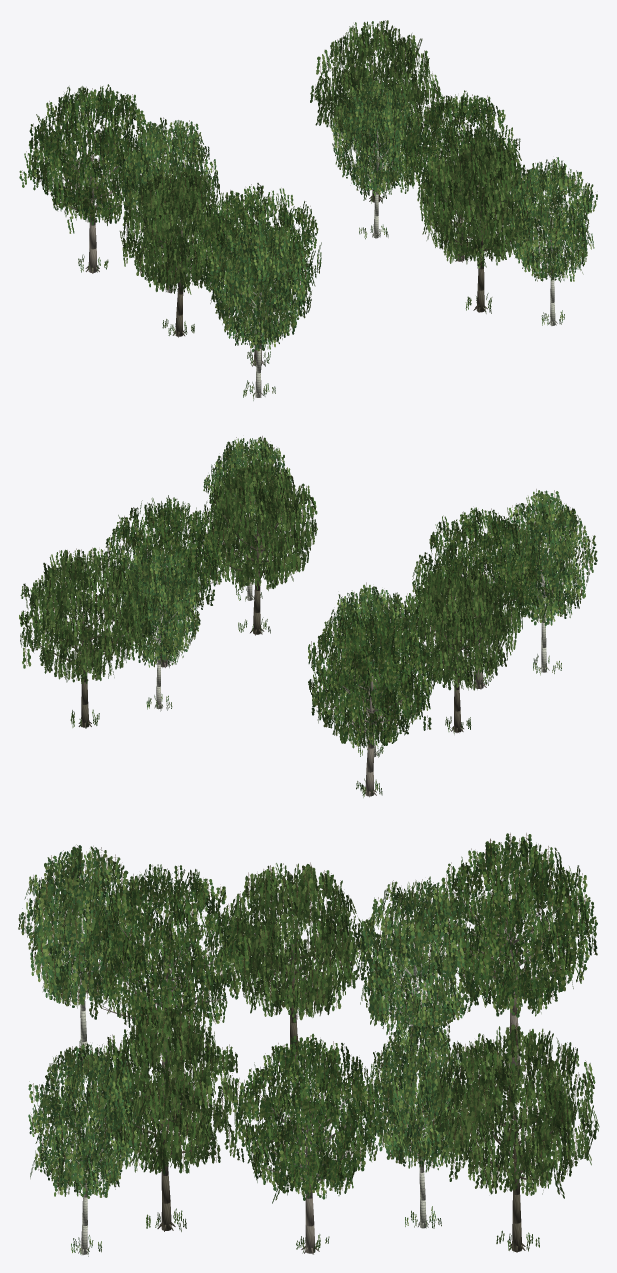
3 renders of one model, top to bottom at view 1: azimuth 30°, elevation 25°; view 2: azimuth 150°, elevation 25°; view 3: azimuth 270°, elevation 25°, orthographic. The views are drawn at different scales.
Visible parts, largest first — view 1: VIS_Medium_00_VIS_MaskedLeaves, VIS_Medium_08_VIS_MaskedLeaves, VIS_Medium_04_VIS_MaskedLeaves, VIS_Medium_02_VIS_MaskedLeaves, VIS_Medium_05_VIS_MaskedLeaves, VIS_Medium_09_VIS_MaskedLeaves, VIS_Medium_06_VIS_MaskedLeaves, VIS_Medium_07_VIS_MaskedLeaves, VIS_Medium_03_VIS_MaskedLeaves, VIS_Medium_01_VIS_MaskedLeaves, VIS_Medium_00_VIS_TrunkBranches, VIS_Medium_08_VIS_TrunkBranches (+3 smaller); view 2: VIS_Medium_00_VIS_MaskedLeaves, VIS_Medium_05_VIS_MaskedLeaves, VIS_Medium_08_VIS_MaskedLeaves, VIS_Medium_02_VIS_MaskedLeaves, VIS_Medium_04_VIS_MaskedLeaves, VIS_Medium_03_VIS_MaskedLeaves, VIS_Medium_07_VIS_MaskedLeaves, VIS_Medium_06_VIS_MaskedLeaves, VIS_Medium_09_VIS_MaskedLeaves, VIS_Medium_01_VIS_MaskedLeaves, VIS_Medium_00_VIS_TrunkBranches, VIS_Medium_08_VIS_TrunkBranches (+3 smaller); view 3: VIS_Medium_05_VIS_MaskedLeaves, VIS_Medium_00_VIS_MaskedLeaves, VIS_Medium_03_VIS_MaskedLeaves, VIS_Medium_07_VIS_MaskedLeaves, VIS_Medium_02_VIS_MaskedLeaves, VIS_Medium_08_VIS_MaskedLeaves, VIS_Medium_01_VIS_MaskedLeaves, VIS_Medium_09_VIS_MaskedLeaves, VIS_Medium_04_VIS_MaskedLeaves, VIS_Medium_06_VIS_MaskedLeaves, VIS_Medium_07_VIS_TrunkBranches, VIS_Medium_05_VIS_TrunkBranches (+6 smaller).
Boxes of the visible parts, left/top/right/bottom form: VIS_Medium_00_VIS_MaskedLeaves: left=19, top=84, right=159, bottom=272; VIS_Medium_08_VIS_MaskedLeaves: left=417, top=137, right=543, bottom=313; VIS_Medium_04_VIS_MaskedLeaves: left=210, top=220, right=311, bottom=400; VIS_Medium_02_VIS_MaskedLeaves: left=119, top=168, right=239, bottom=335; VIS_Medium_05_VIS_MaskedLeaves: left=310, top=20, right=443, bottom=203; VIS_Medium_09_VIS_MaskedLeaves: left=505, top=157, right=597, bottom=325; VIS_Medium_06_VIS_MaskedLeaves: left=331, top=78, right=421, bottom=239; VIS_Medium_07_VIS_MaskedLeaves: left=397, top=90, right=521, bottom=262; VIS_Medium_03_VIS_MaskedLeaves: left=196, top=183, right=321, bottom=366; VIS_Medium_01_VIS_MaskedLeaves: left=120, top=117, right=218, bottom=291; VIS_Medium_00_VIS_TrunkBranches: left=42, top=120, right=138, bottom=273; VIS_Medium_08_VIS_TrunkBranches: left=436, top=179, right=516, bottom=312; VIS_Medium_00_VIS_MaskedLeaves: left=308, top=606, right=436, bottom=797; VIS_Medium_05_VIS_MaskedLeaves: left=19, top=547, right=150, bottom=728; VIS_Medium_08_VIS_MaskedLeaves: left=197, top=460, right=317, bottom=634; VIS_Medium_02_VIS_MaskedLeaves: left=400, top=564, right=518, bottom=734; VIS_Medium_04_VIS_MaskedLeaves: left=496, top=489, right=597, bottom=675; VIS_Medium_03_VIS_MaskedLeaves: left=412, top=507, right=540, bottom=689; VIS_Medium_07_VIS_MaskedLeaves: left=105, top=495, right=224, bottom=667; VIS_Medium_06_VIS_MaskedLeaves: left=116, top=544, right=204, bottom=711; VIS_Medium_09_VIS_MaskedLeaves: left=203, top=436, right=297, bottom=601; VIS_Medium_01_VIS_MaskedLeaves: left=324, top=582, right=417, bottom=757; VIS_Medium_00_VIS_TrunkBranches: left=319, top=637, right=425, bottom=797; VIS_Medium_08_VIS_TrunkBranches: left=217, top=503, right=291, bottom=635; VIS_Medium_05_VIS_MaskedLeaves: left=433, top=1023, right=599, bottom=1251; VIS_Medium_00_VIS_MaskedLeaves: left=430, top=833, right=597, bottom=1071; VIS_Medium_03_VIS_MaskedLeaves: left=85, top=864, right=249, bottom=1086; VIS_Medium_07_VIS_MaskedLeaves: left=233, top=1033, right=383, bottom=1253; VIS_Medium_02_VIS_MaskedLeaves: left=218, top=862, right=369, bottom=1075; VIS_Medium_08_VIS_MaskedLeaves: left=86, top=1008, right=243, bottom=1231; VIS_Medium_01_VIS_MaskedLeaves: left=354, top=876, right=473, bottom=1088; VIS_Medium_09_VIS_MaskedLeaves: left=28, top=1040, right=139, bottom=1256; VIS_Medium_04_VIS_MaskedLeaves: left=18, top=844, right=142, bottom=1071; VIS_Medium_06_VIS_MaskedLeaves: left=363, top=1024, right=479, bottom=1228; VIS_Medium_07_VIS_TrunkBranches: left=249, top=1079, right=360, bottom=1254; VIS_Medium_05_VIS_TrunkBranches: left=454, top=1066, right=572, bottom=1252.
Bounding box in the file's own units: 27 × 11.4 × 26.39.
6 materials, 6 textured.
